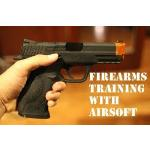Pistol: (13, 37, 125, 116)
